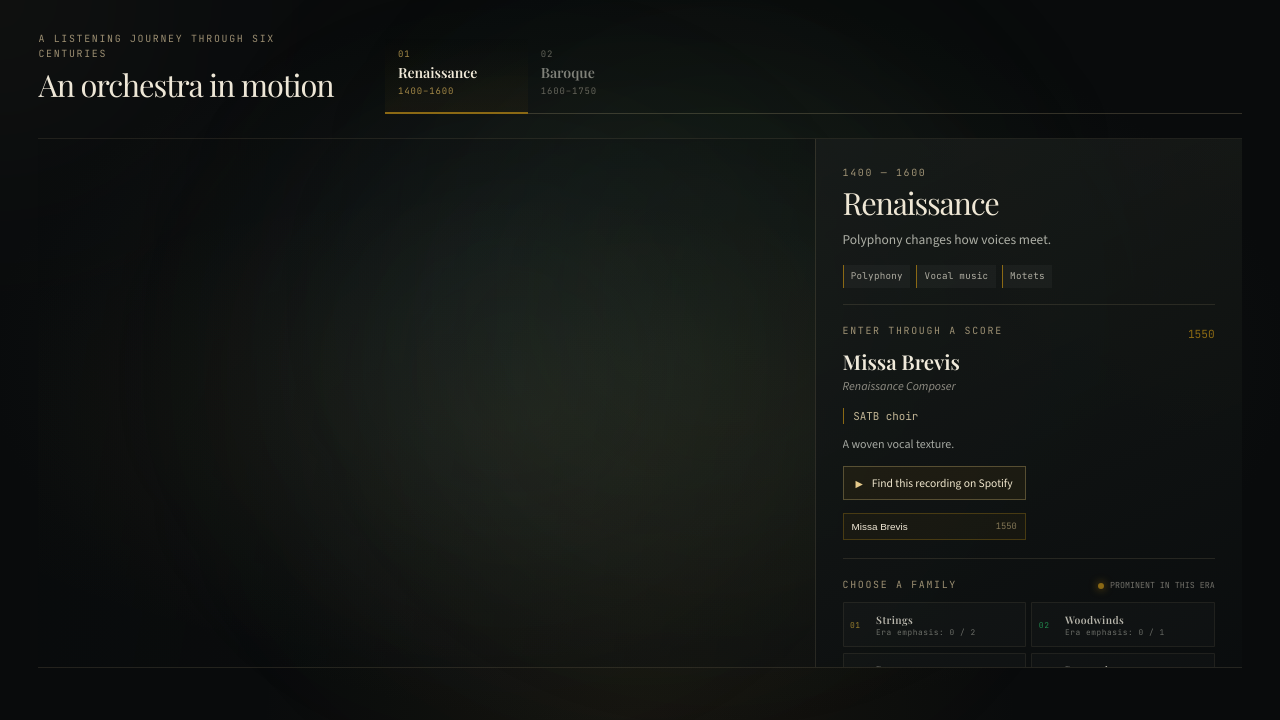
OrchestraExplorer › opens a family from the family index and exposes keyboard-operable instruments
This screenshot has width=1280, height=720.
Click the button with aria-label "Strings, 2 instruments" at (934, 625), box [842, 602, 1026, 647]
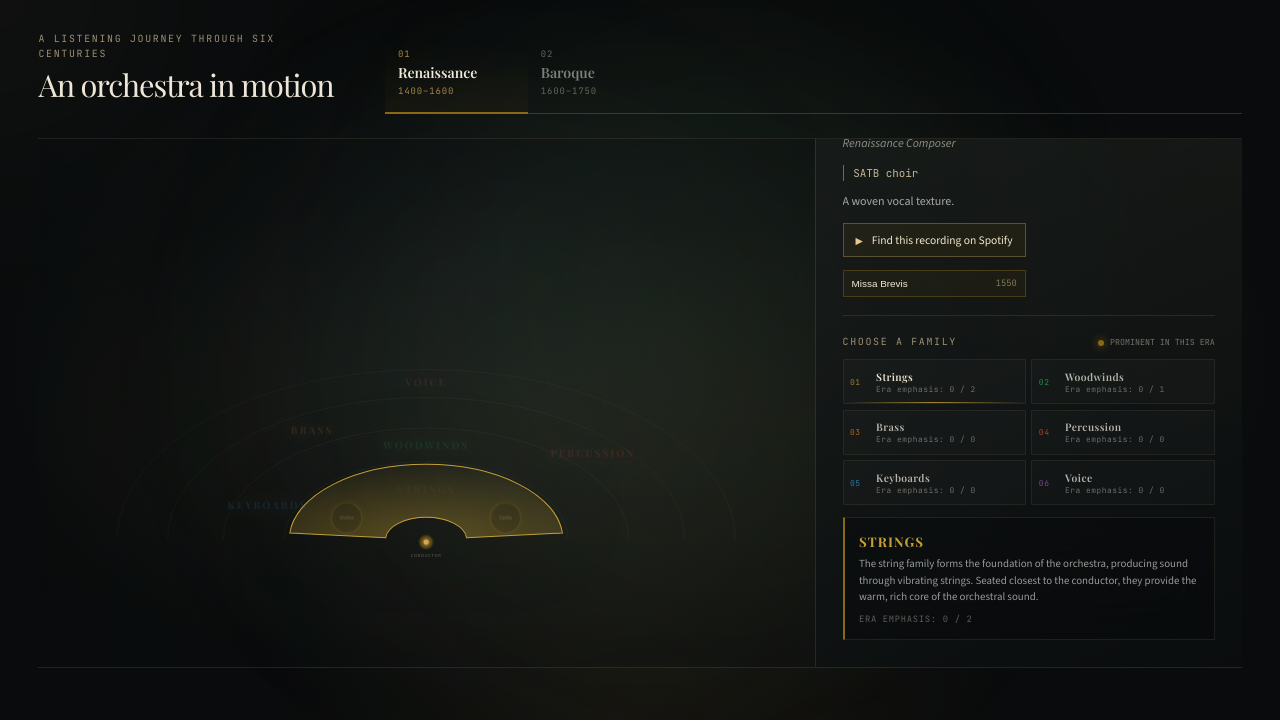
Expected: the text "warm, rich core" is shown, [859, 556, 1196, 604]
